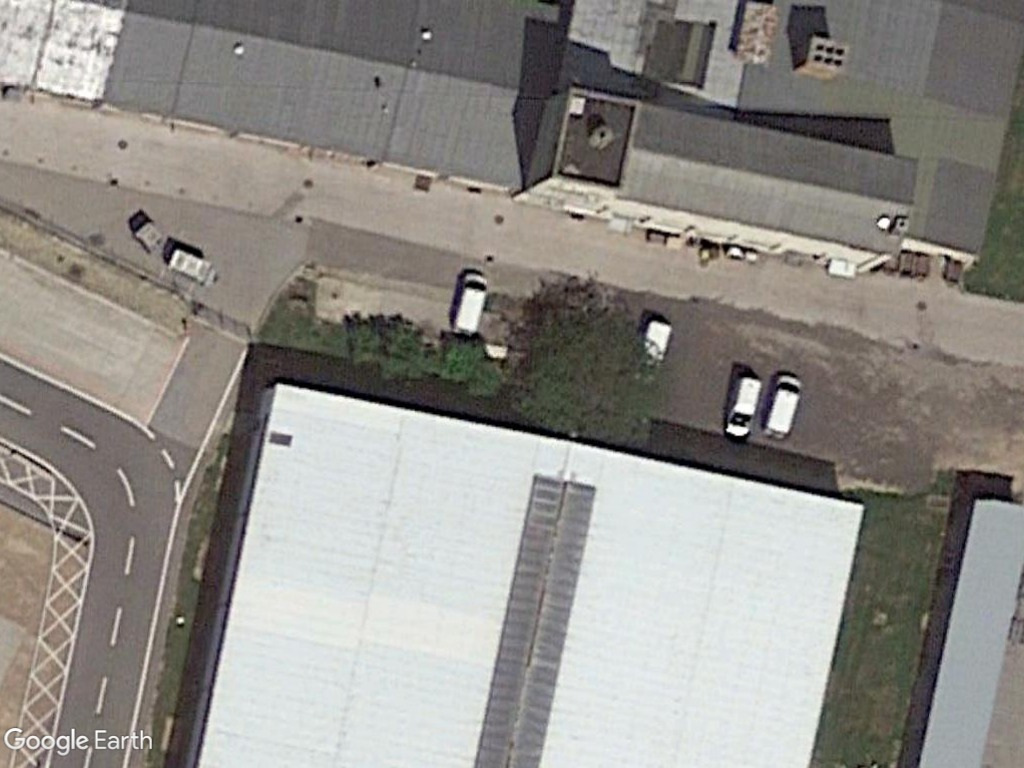van: (761, 372, 806, 442), (721, 373, 765, 442), (452, 269, 489, 336)
